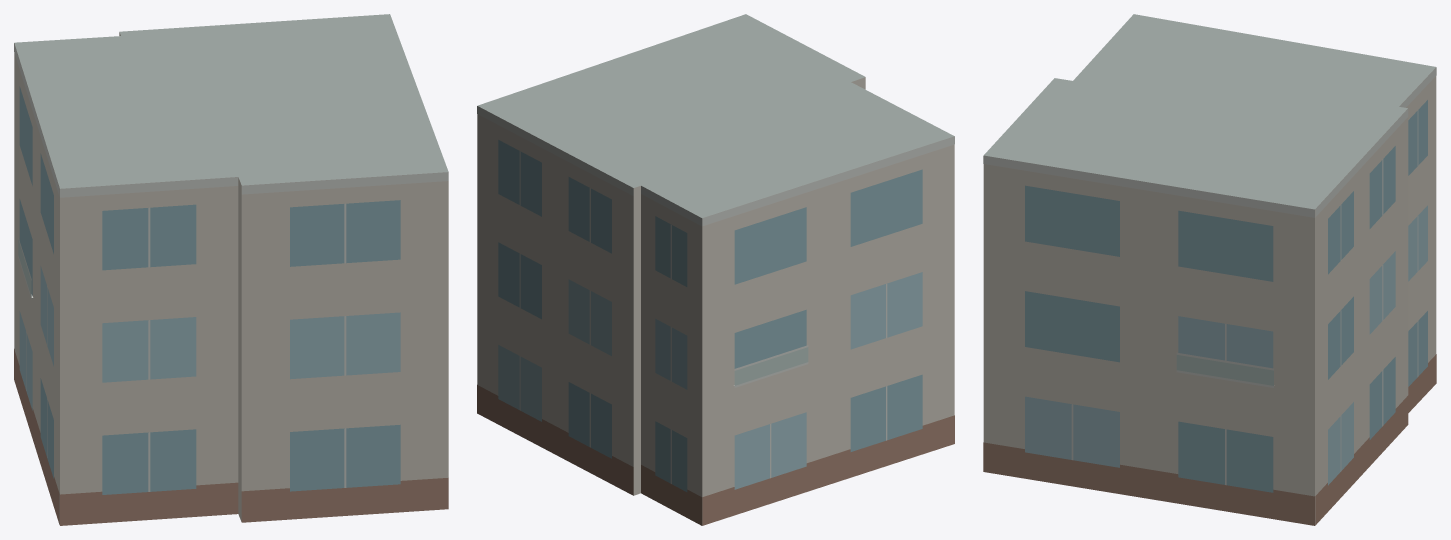
Rendered from survey-upis-32815347.glb.
3 renders of one model, left to right at view 1: azimuth 30°, elevation 25°; view 2: azimuth 150°, elevation 25°; view 3: azimuth 270°, elevation 25°, orthographic. The views are drawn at different scales.
Visible parts, largest first — view 1: survey-upis-32815347.tmp; view 2: survey-upis-32815347.tmp; view 3: survey-upis-32815347.tmp.
Part boxes in pixels (x1,y1,x2,y2): survey-upis-32815347.tmp: (14,14,448,525); survey-upis-32815347.tmp: (477,14,954,525); survey-upis-32815347.tmp: (983,14,1436,525).
Size of the model in its own units: 12.13 by 9.15 by 11.88.
